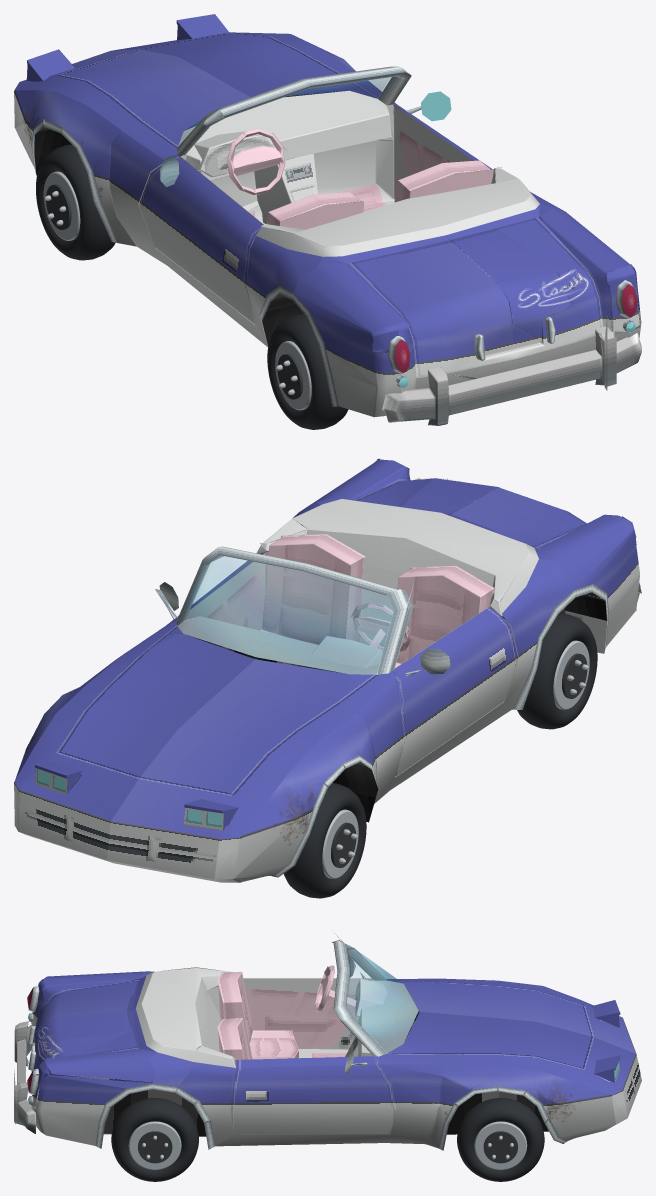
The model's file is car-lisa_v.glb.
3 renders of one model, top to bottom at view 1: azimuth 30°, elevation 25°; view 2: azimuth 150°, elevation 25°; view 3: azimuth 270°, elevation 25°, orthographic. The views are drawn at different scales.
Visible parts, largest first — view 1: lisa_vShape.007, lisa_vShape.003, TrunkRotShape.008, HoodRotShape.006, lisa_vShape.004, DoorDRotShape.027, lisa_vShape.006, lisa_vShape.002, Rounded tire.044, Rounded tire.045, DoorPRotShape.030, lisa_vShape (+7 smaller); view 2: lisa_vShape.007, HoodRotShape.006, lisa_vShape.006, lisa_vShape.008, lisa_vShape.004, DoorDRotShape.027, lisa_vShape.003, TrunkRotShape.008, lisa_vShape.002, Rounded tire.045, Rounded tire.044, DoorPRotShape.030 (+7 smaller); view 3: lisa_vShape.007, lisa_vShape.005, HoodRotShape.006, DoorPRotShape.028, lisa_vShape.003, lisa_vShape.006, TrunkRotShape.008, DoorDIntShape.001, lisa_vShape.002, lisa_vShape.008, Rounded tire.047, Rounded tire.046 (+7 smaller).
Boxes of the visible parts, <box> form: lisa_vShape.007: <box>138,90,571,376</box>; lisa_vShape.003: <box>294,208,641,425</box>; TrunkRotShape.008: <box>347,217,602,377</box>; HoodRotShape.006: <box>57,32,365,140</box>; lisa_vShape.004: <box>14,90,544,346</box>; DoorDRotShape.027: <box>139,157,263,323</box>; lisa_vShape.006: <box>14,14,637,387</box>; lisa_vShape.002: <box>31,66,633,425</box>; Rounded tire.044: <box>36,144,115,260</box>; Rounded tire.045: <box>267,314,348,429</box>; DoorPRotShape.030: <box>394,104,473,199</box>; lisa_vShape: <box>34,124,476,417</box>; lisa_vShape.007: <box>177,498,606,777</box>; HoodRotShape.006: <box>57,634,365,796</box>; lisa_vShape.006: <box>14,499,556,879</box>; lisa_vShape.008: <box>177,555,393,674</box>; lisa_vShape.004: <box>20,551,574,882</box>; DoorDRotShape.027: <box>393,607,518,776</box>; lisa_vShape.003: <box>303,458,641,646</box>; TrunkRotShape.008: <box>351,478,586,548</box>; lisa_vShape.002: <box>176,522,636,877</box>; Rounded tire.045: <box>517,613,597,729</box>; Rounded tire.044: <box>284,783,366,898</box>; DoorPRotShape.030: <box>186,552,265,630</box>; lisa_vShape.007: <box>61,965,418,1079</box>; lisa_vShape.005: <box>148,1052,615,1147</box>; HoodRotShape.006: <box>402,981,594,1069</box>; DoorPRotShape.028: <box>229,1064,396,1134</box>; lisa_vShape.003: <box>14,971,155,1145</box>; lisa_vShape.006: <box>27,971,641,1123</box>; TrunkRotShape.008: <box>31,979,139,1072</box>; DoorDIntShape.001: <box>243,978,372,1049</box>; lisa_vShape.002: <box>26,928,567,1150</box>; lisa_vShape.008: <box>347,945,418,1052</box>; Rounded tire.047: <box>457,1098,544,1181</box>; Rounded tire.046: <box>111,1098,198,1181</box>.
Bounding box in the file's own units: 2.14 × 1.57 × 5.22.
14 materials, 11 textured.
